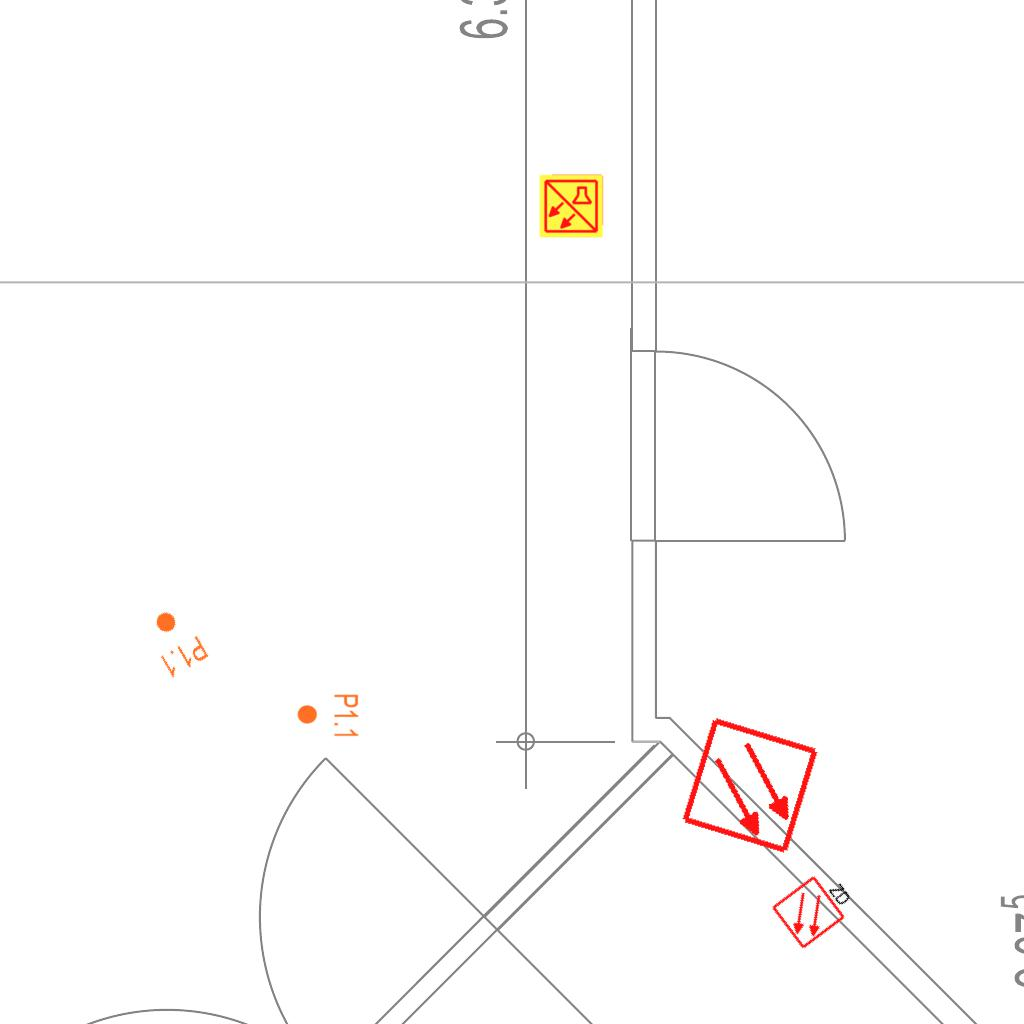Downlight_LED_Einbauleuchten_Flur: (139, 601, 211, 681), (296, 693, 360, 739)
OKW_Multisensormelder_(Kombination_optischer_Rauch-Kahlenmonoxid_Waerme-Melder): (538, 173, 604, 239)
RMO_Rauchmelder_optischer: (679, 714, 822, 857)
ZD_Melder_in_Zwischendecke_mit_Revisionsoeffnung_mind_40_x_40_cm: (768, 860, 863, 952)
